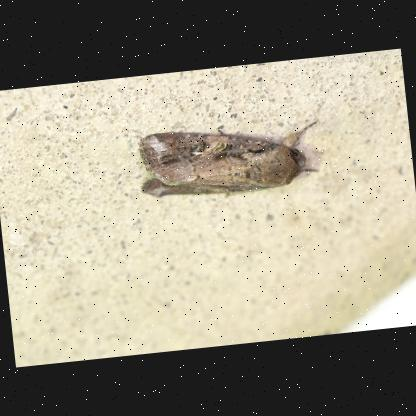Fall Armyworm Moth: (130, 113, 328, 212)
